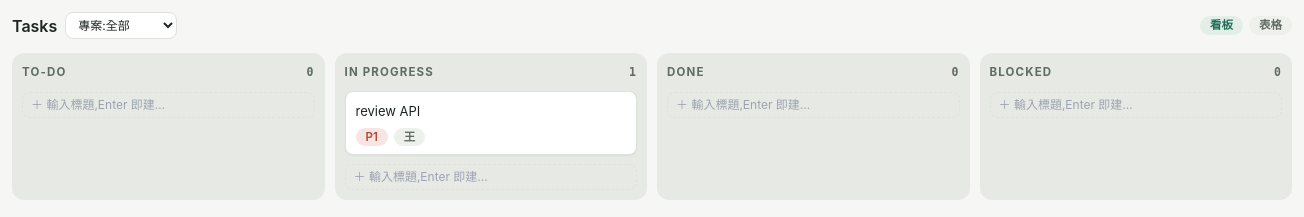
Test: Tasks › marks a task whose project no longer exists
Expected: the button "review API P1 王" is shown, [344, 90, 637, 155]
What coordinates should you click on to do the following:
click the button "表格"
I would click on:
 (1270, 26)
Its box is [1249, 16, 1292, 35].
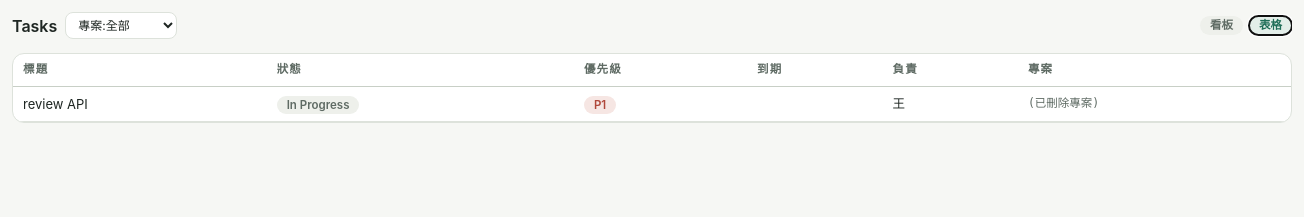
Expected: the text "(已刪除專案)" is shown, [1018, 86, 1291, 121]
